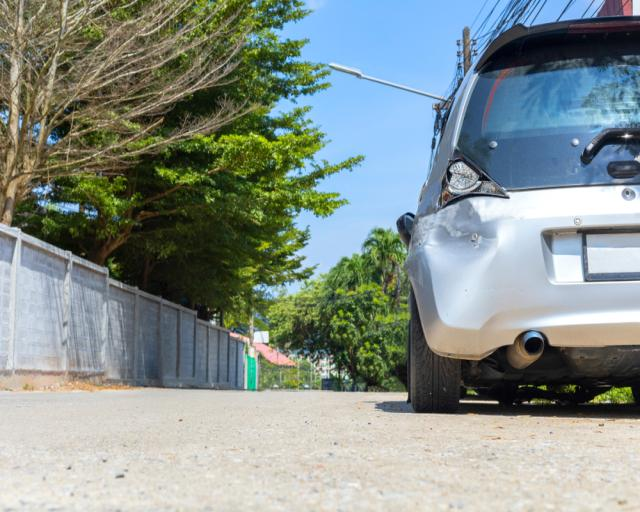dent: (421, 203, 499, 314)
lamp broken: (441, 157, 505, 205)
